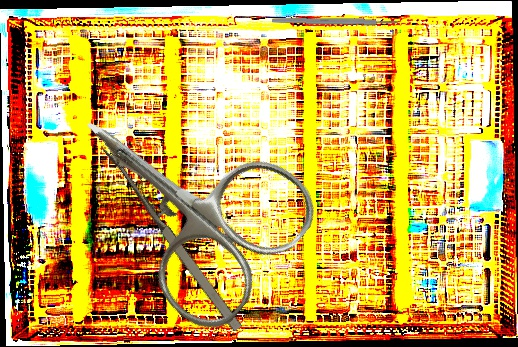Iris Scissors: (31, 52, 330, 344)
Needle Holder: (100, 116, 274, 336)
Scalpel Handle: (271, 16, 399, 27)
